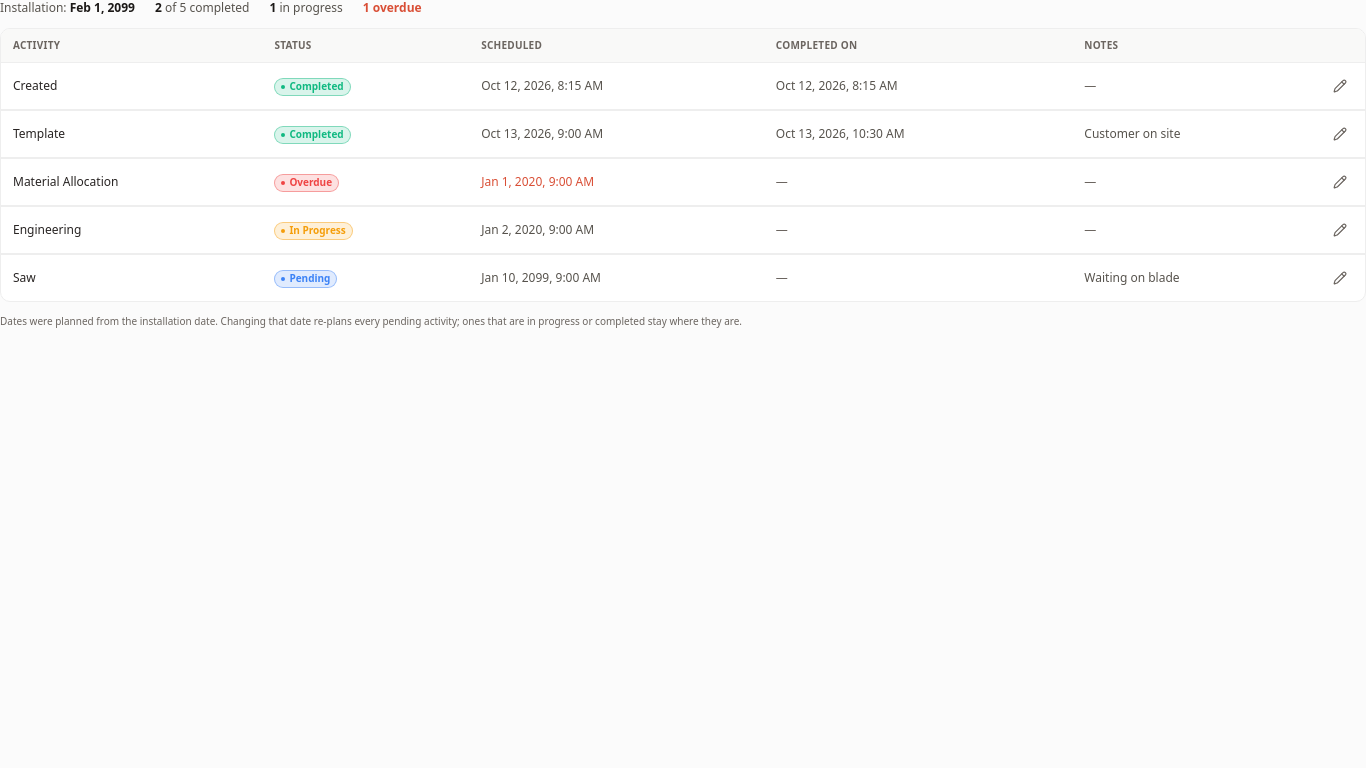
Scenario: SalesOrderSchedulingTab › keeps the editor open and shows the server message when a save is refused
Check: the table is shown, box [1,29,1365,301]
Click the button named "Edit Saw".
click(1340, 278)  # box [1327,265,1353,291]
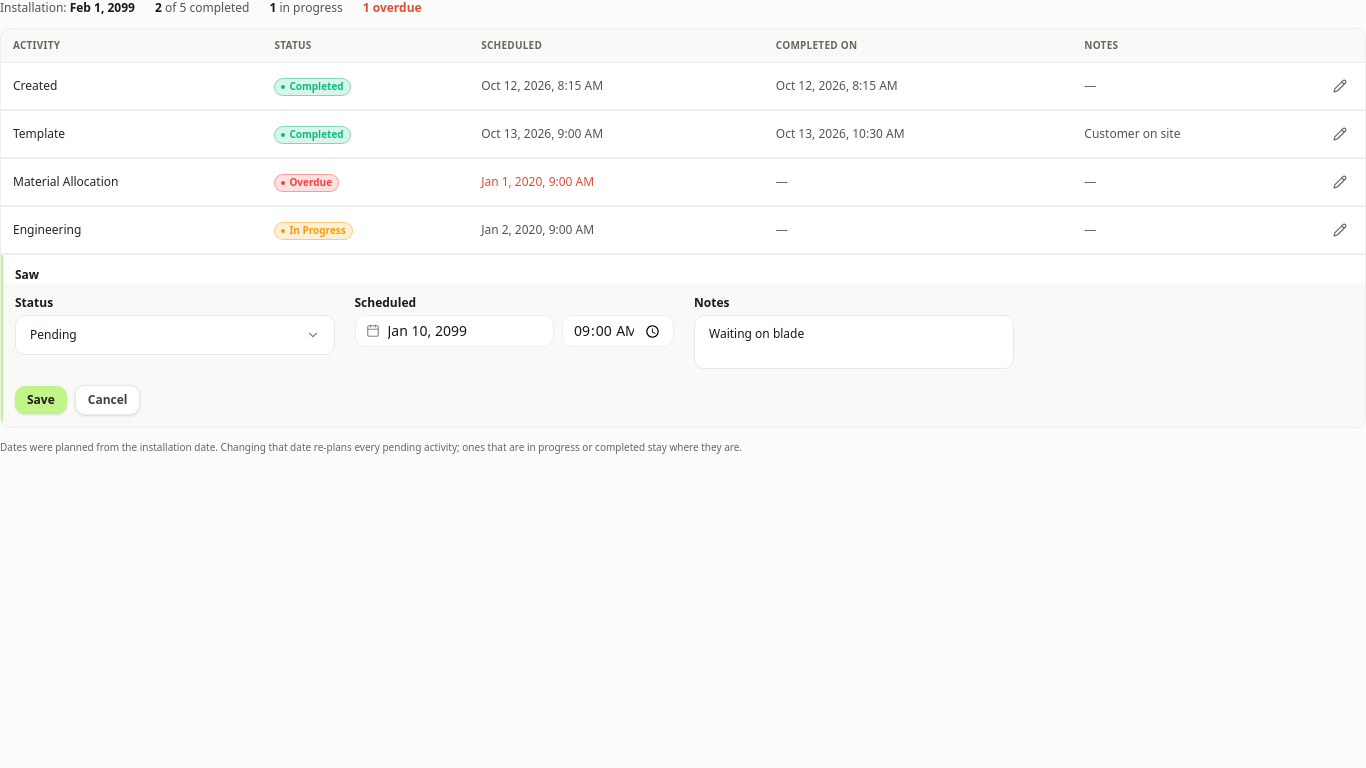
Click the dropdown named "Status for Saw".
click(53, 335)  # box [15,315,334,355]
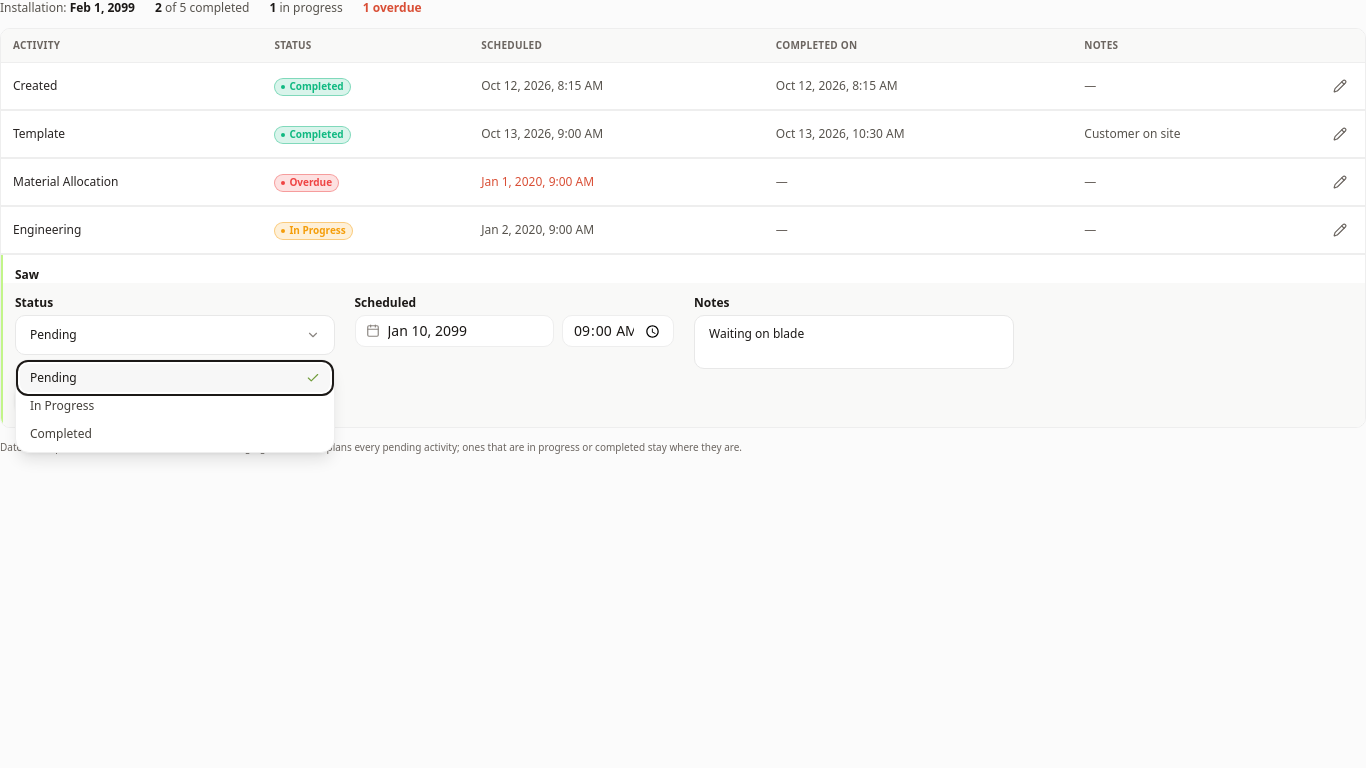
Click the option "Completed".
click(61, 434)  # box [20,420,330,448]
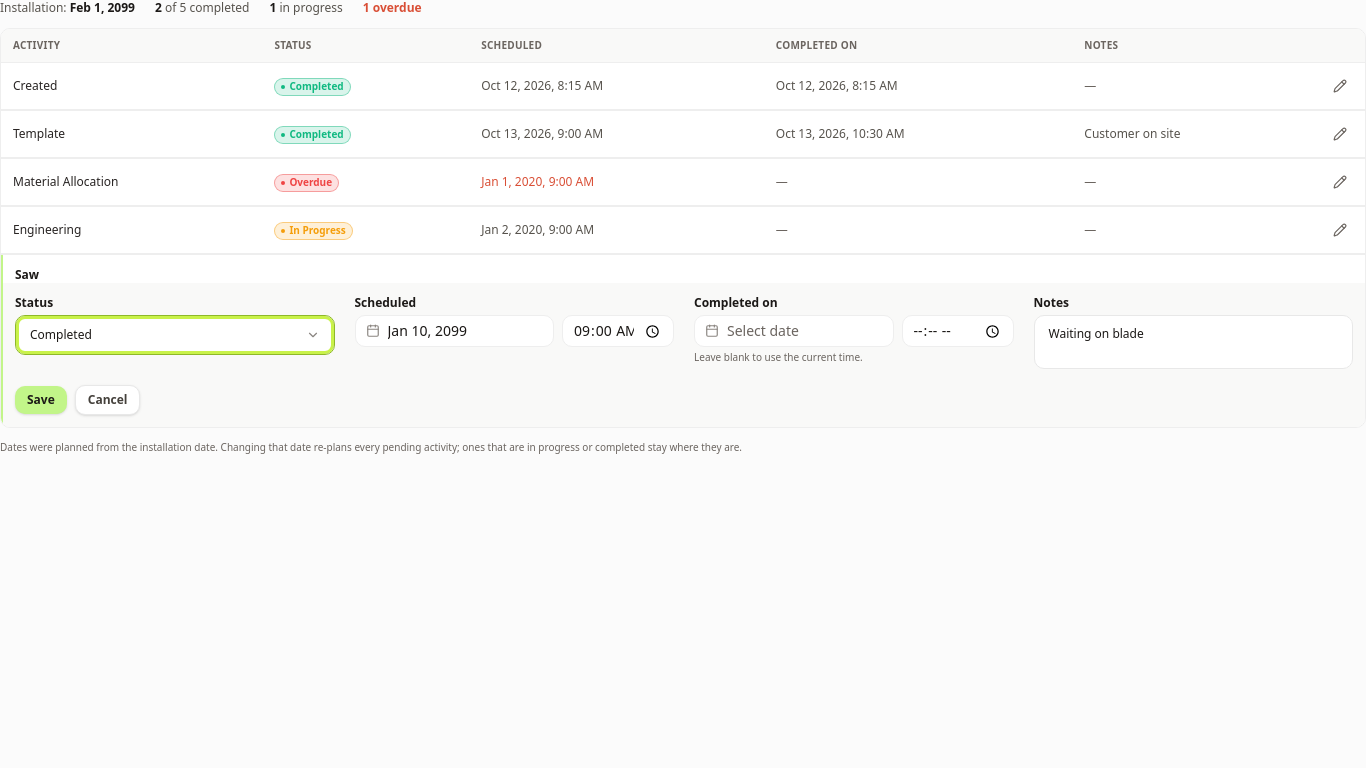
Click the button with aria-label "Save changes for Saw".
click(41, 400)  # box [15,386,67,414]
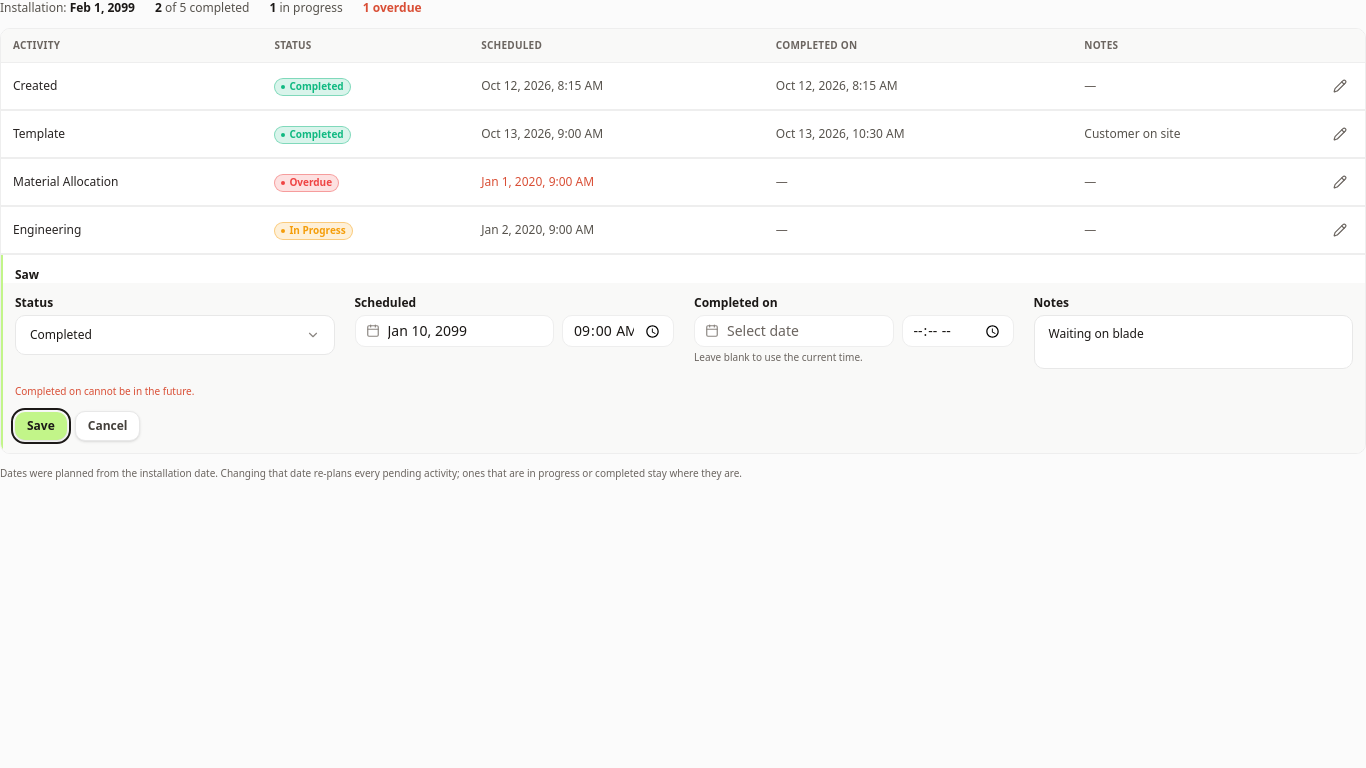
Check: the dropdown named "Status for Saw" is shown, box [15,315,334,355]
Check: the message reads "Completed on cannot be in the future.", box [15,384,194,398]
